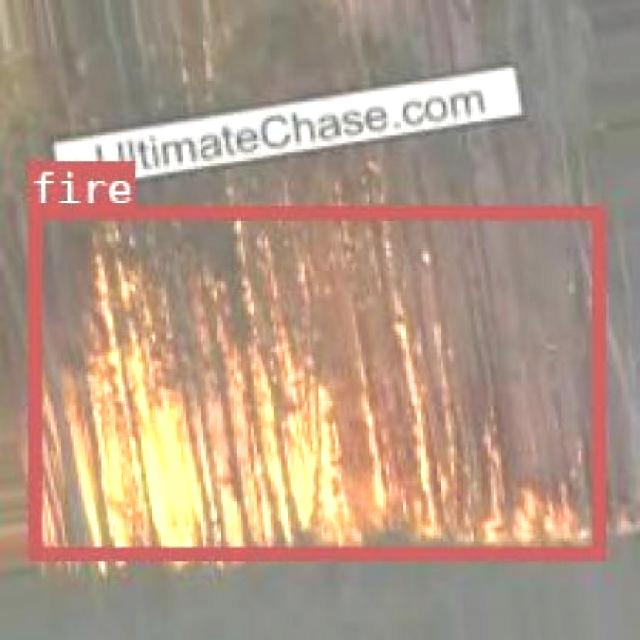fire: (28, 206, 600, 556)
